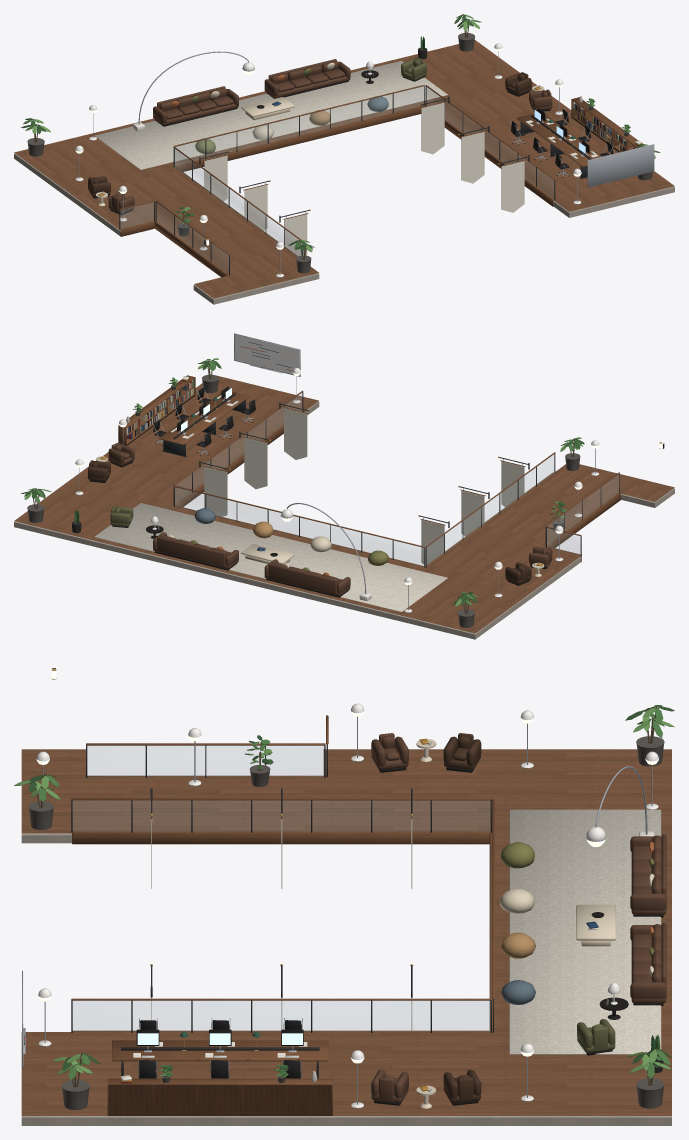
Rendered from upper.glb.
The picture shows the model from 3 angles, top to bottom: view 1: azimuth 30°, elevation 25°; view 2: azimuth 150°, elevation 25°; view 3: azimuth 270°, elevation 25°; orthographic projection. The views are drawn at different scales.
Parts seen in each view (by area): view 1: hq_upper_0, hq_upper_1, hq_upper_2; view 2: hq_upper_0, hq_upper_1, hq_upper_2; view 3: hq_upper_0, hq_upper_1, hq_upper_2.
Part boxes in pixels (x1=…): hq_upper_0: x1=14, y1=14, x2=520, y2=198; hq_upper_1: x1=418, y1=72, x2=674, y2=217; hq_upper_2: x1=69, y1=146, x2=319, y2=304; hq_upper_0: x1=14, y1=459, x2=530, y2=639; hq_upper_1: x1=70, y1=333, x2=319, y2=516; hq_upper_2: x1=418, y1=437, x2=674, y2=598; hq_upper_0: x1=489, y1=705, x2=674, y2=1125; hq_upper_1: x1=21, y1=964, x2=491, y2=1125; hq_upper_2: x1=14, y1=668, x2=491, y2=888.
Bounding box in the file's own units: 24.06 × 4.78 × 18.29.
13 materials, 4 textured.
